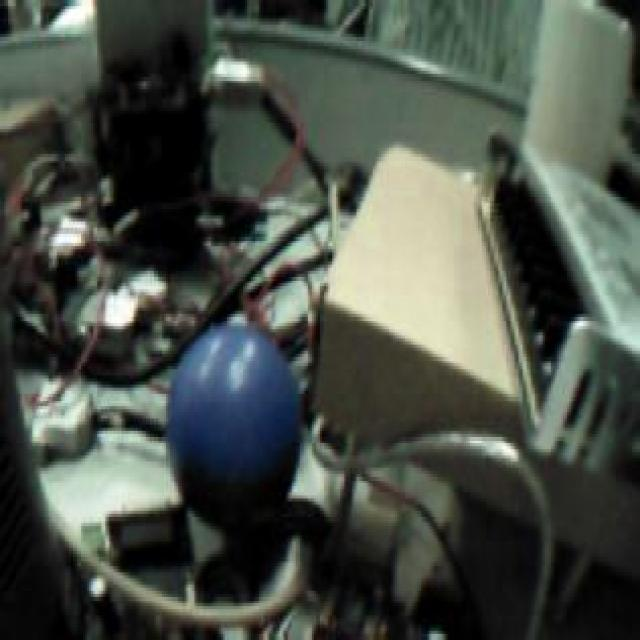BallPurple: (167, 327, 301, 514)
